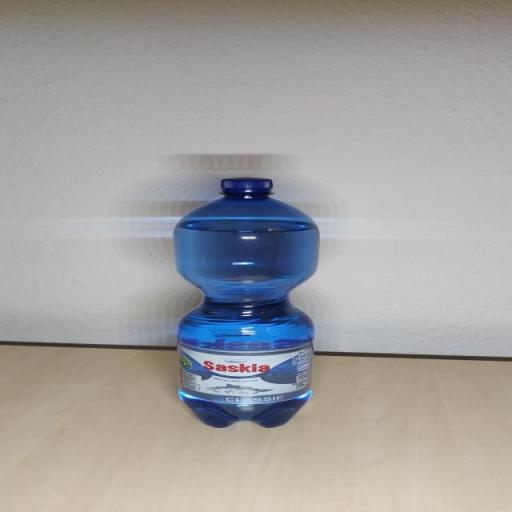plastic: (168, 176, 324, 430)
